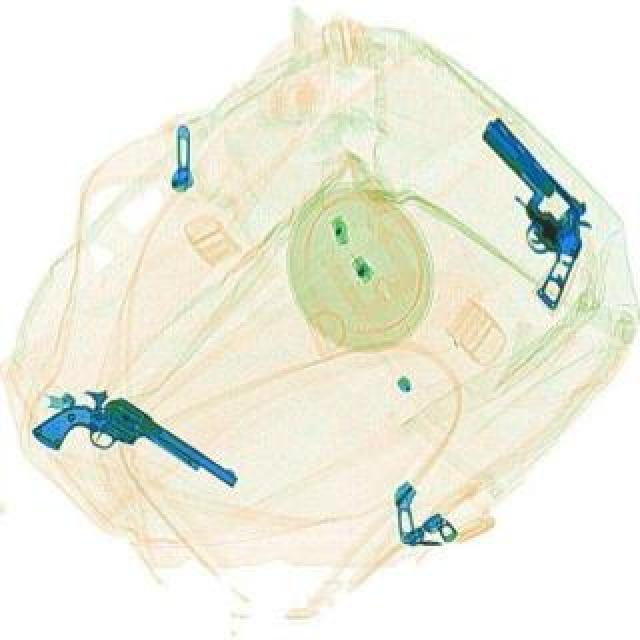gun: (424, 112, 630, 310), (28, 368, 240, 542)
